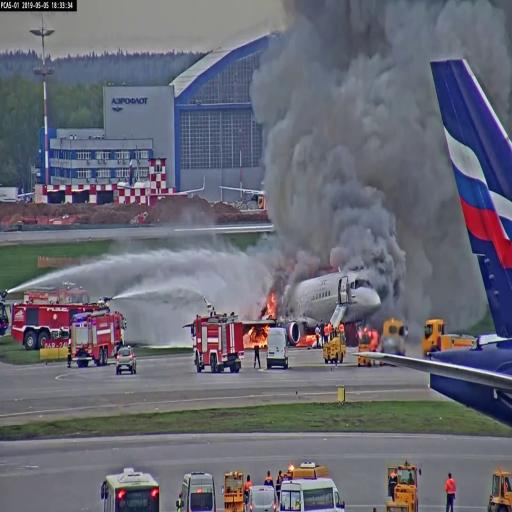smoke: (259, 35, 355, 255), (348, 198, 409, 289)
